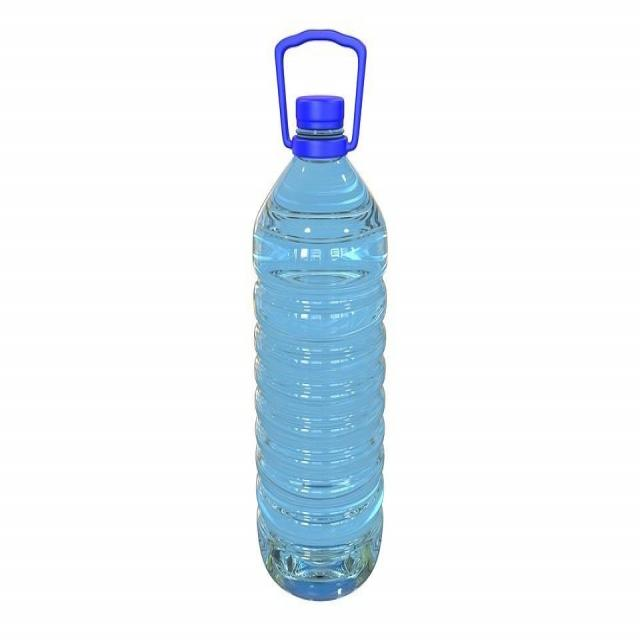plastic_bottle: (259, 29, 389, 600)
